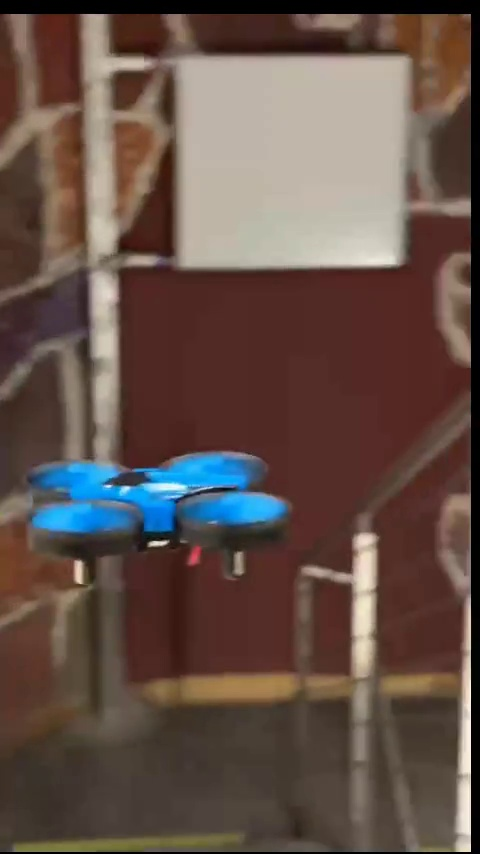drone: (30, 458, 298, 586)
